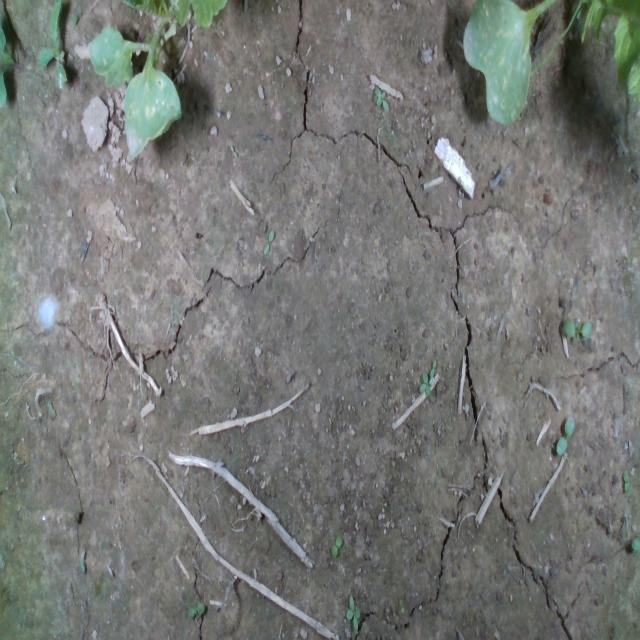weed: (555, 414, 573, 456), (344, 592, 360, 631), (563, 319, 591, 338), (373, 85, 389, 111), (186, 598, 204, 620), (330, 533, 342, 559), (623, 468, 629, 492)
